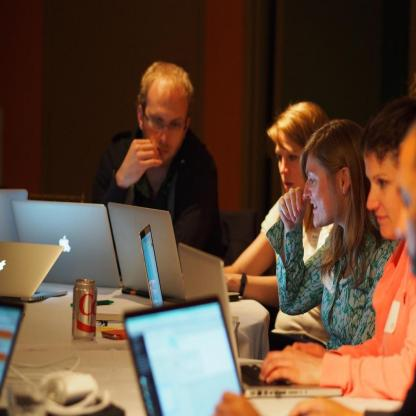board: (123, 294, 366, 416), (178, 239, 344, 400), (138, 224, 240, 332), (9, 198, 124, 289), (107, 201, 186, 303), (0, 241, 68, 307), (0, 190, 28, 243), (72, 280, 96, 340)
